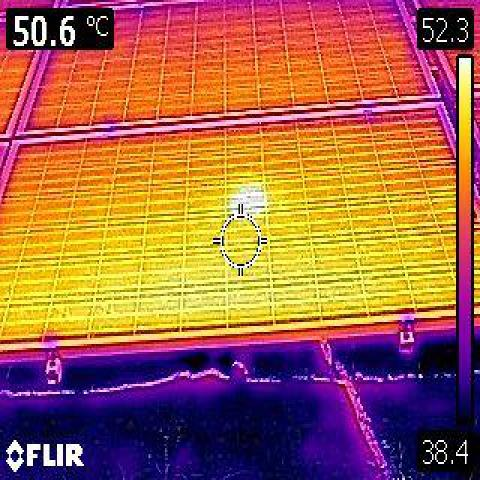fault: (222, 186, 266, 216)
